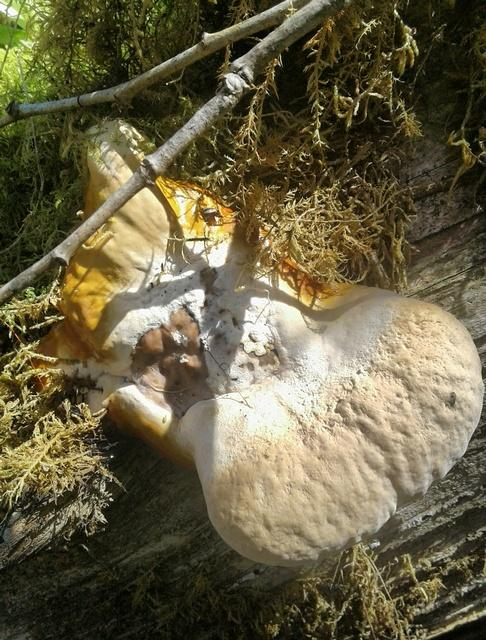Non-edible Mushroom: (28, 117, 484, 569)
